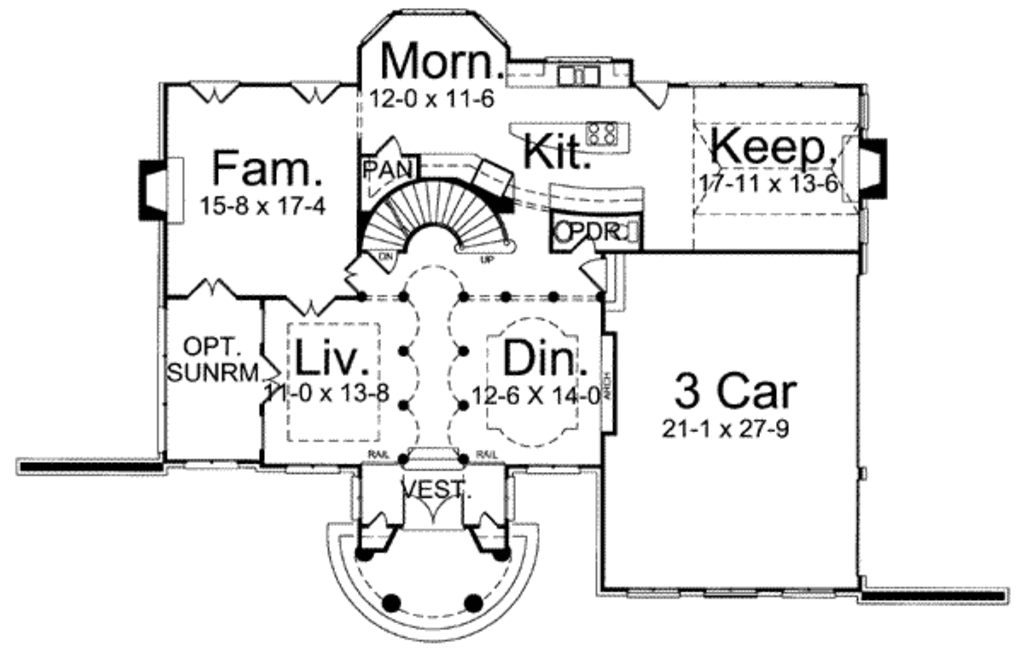door: (281, 291, 339, 319), (287, 78, 343, 103), (189, 80, 242, 106), (577, 255, 607, 293), (188, 278, 238, 299), (634, 84, 671, 111)
kitchen_bar: (506, 117, 637, 160)
stairs: (355, 180, 518, 264)
twin_sink: (554, 63, 606, 91)
window: (181, 456, 242, 472), (283, 460, 342, 476), (522, 463, 586, 474)
